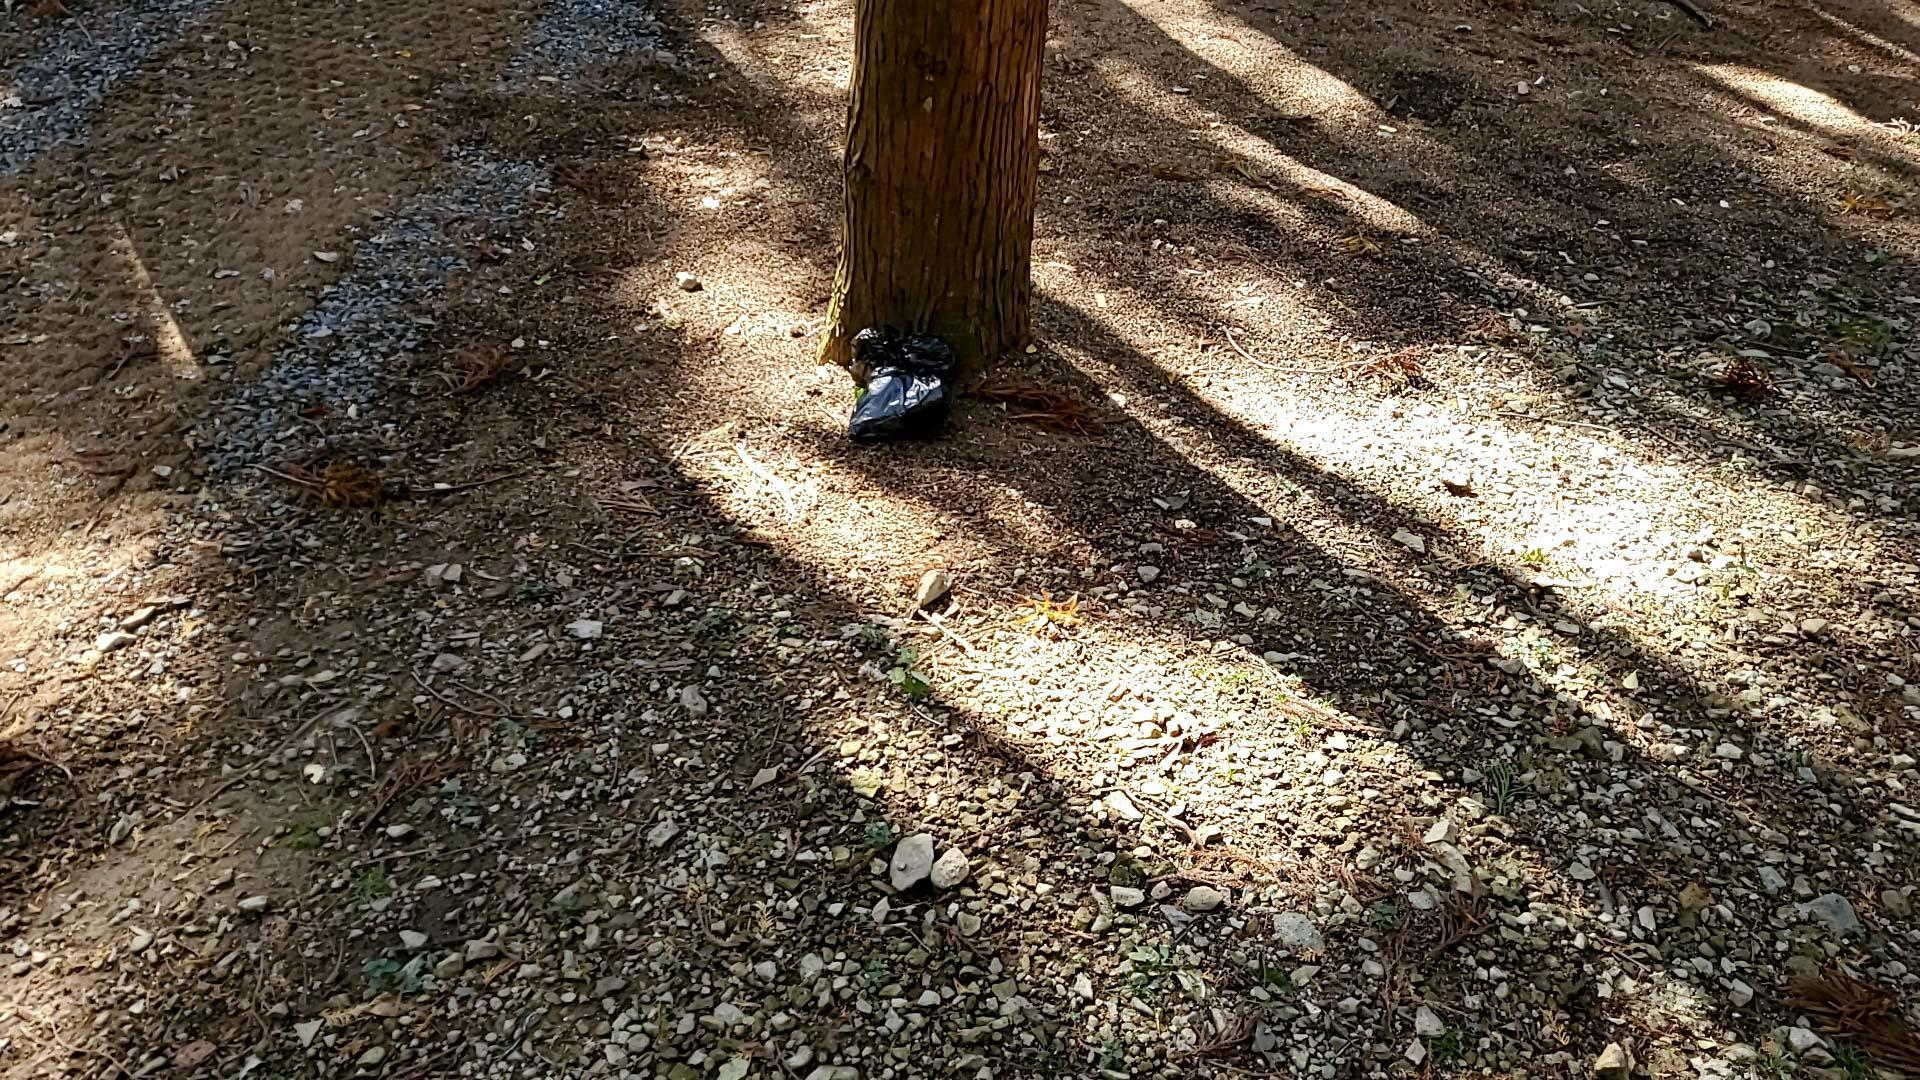black_bag: (829, 313, 960, 454)
